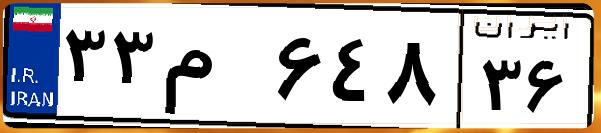3: (57, 26, 110, 100), (475, 38, 525, 113), (110, 28, 158, 98)
4: (330, 28, 385, 110)
6: (270, 28, 330, 110), (525, 38, 570, 115)
8: (385, 28, 445, 110)
م: (158, 20, 270, 120)
